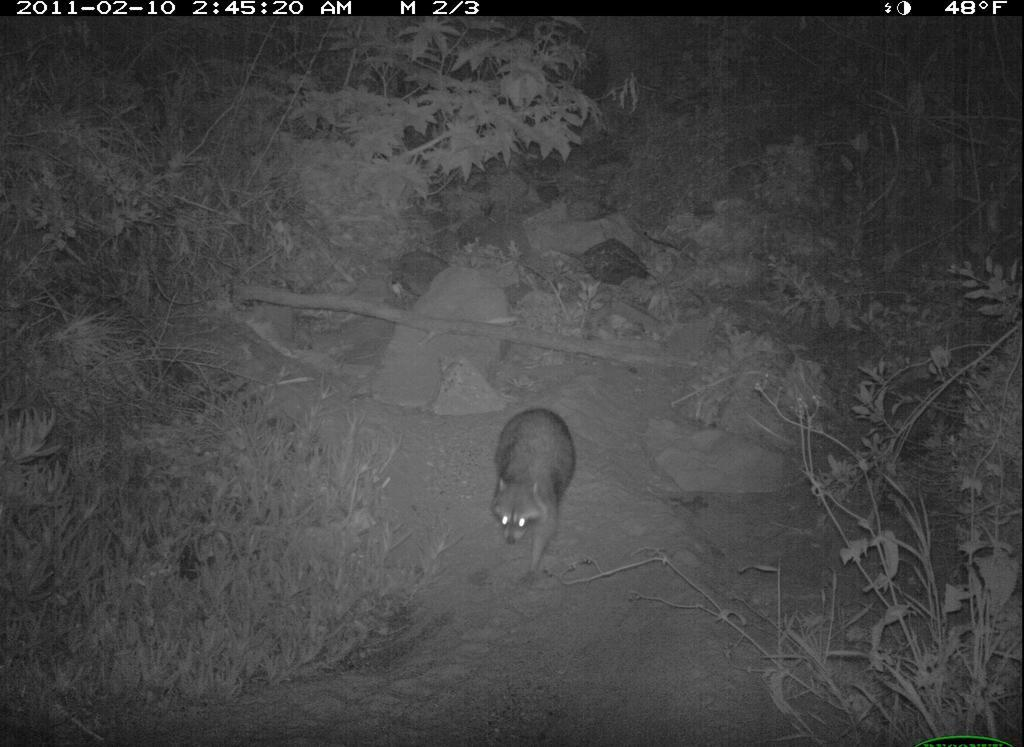raccoon: (477, 395, 582, 580)
